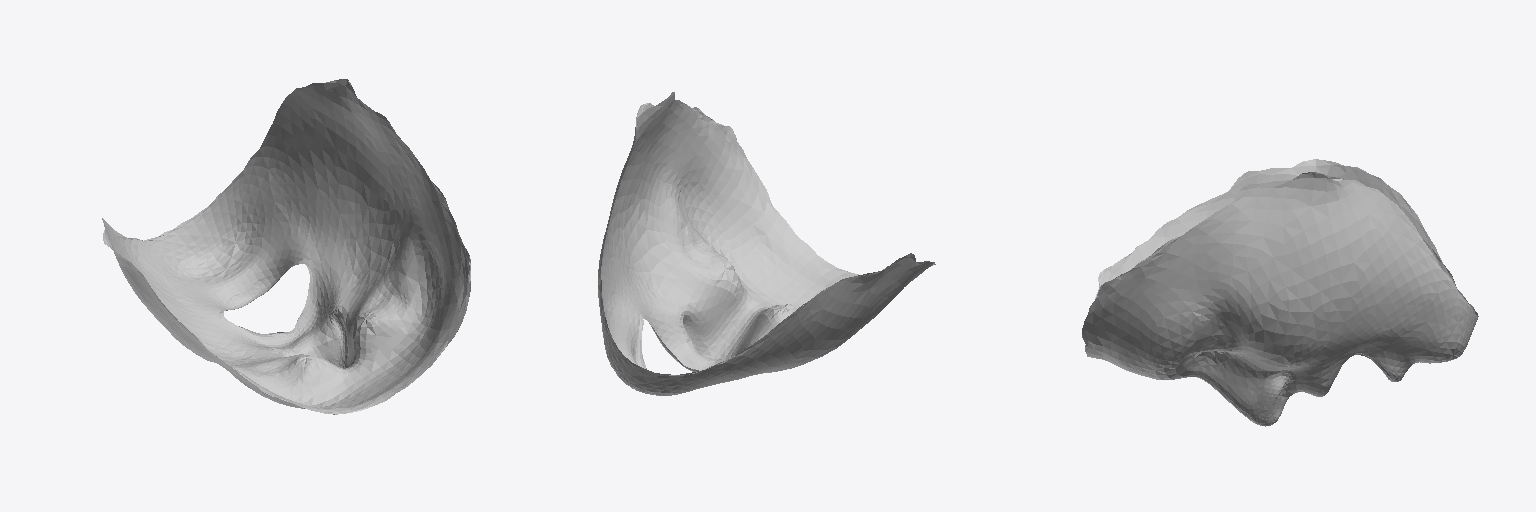
Rendered from face_gab_sfm71.obj.
3 renders of one model, left to right at view 1: azimuth 30°, elevation 25°; view 2: azimuth 150°, elevation 25°; view 3: azimuth 270°, elevation 25°, orthographic.
Size of the model in its own units: 167 by 163 by 214.